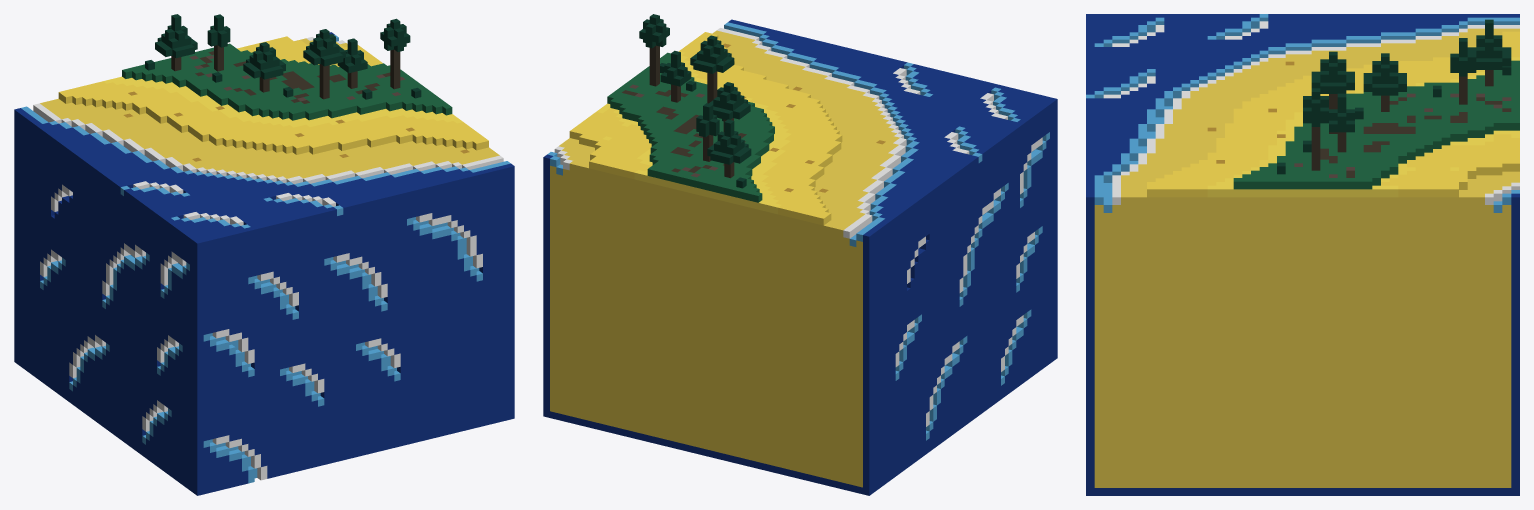
Rendered from wall1corner2side.obj.
3 renders of one model, left to right at view 1: azimuth 30°, elevation 25°; view 2: azimuth 150°, elevation 25°; view 3: azimuth 270°, elevation 25°, orthographic. The views are drawn at different scales.
Bounding box in the file's own units: 5 × 5 × 5.
1 material, 1 textured.
